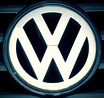Volkswagen: (2, 2, 101, 97)
